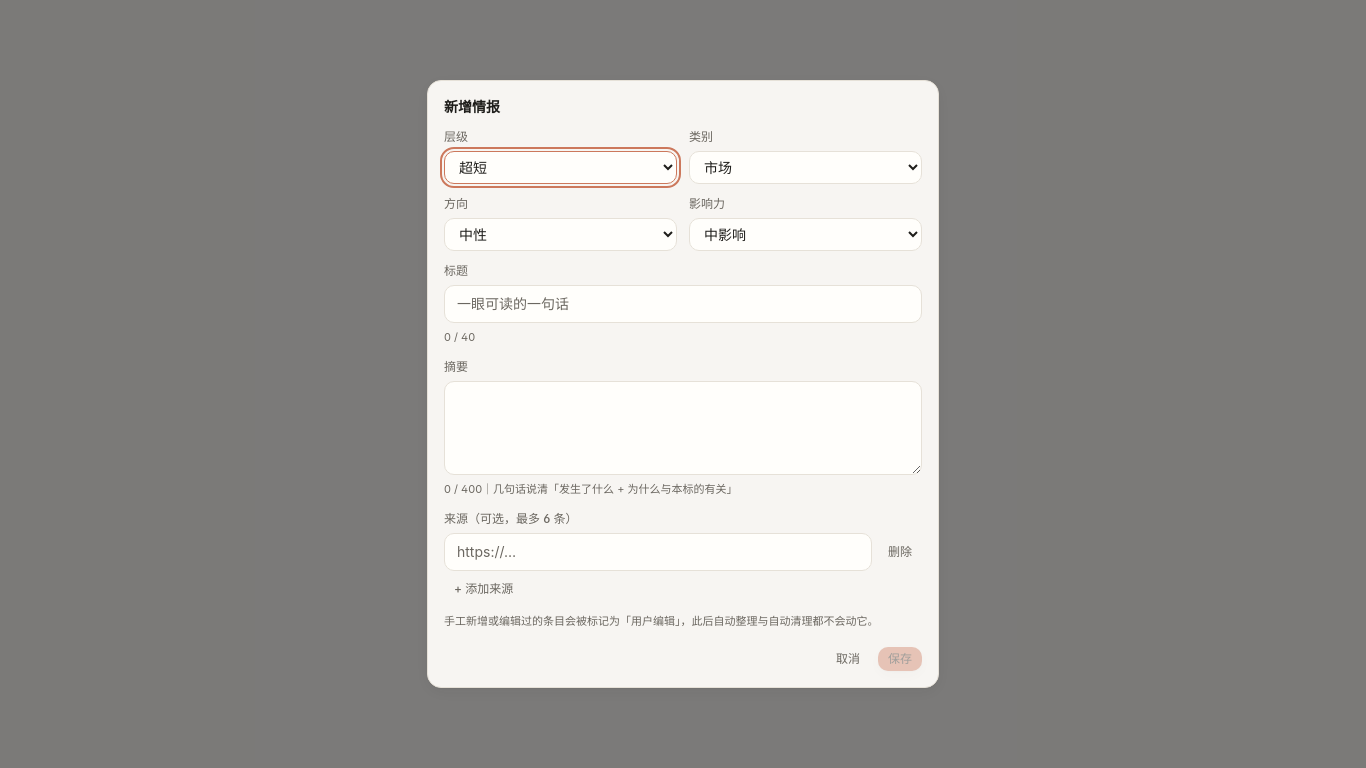
Test: IntelEditor › 非 http(s) 来源被挡下并给出人话
This screenshot has width=1366, height=768.
Type "标题" into the field labelled "标题" at [683, 304], box [444,285,922,323]
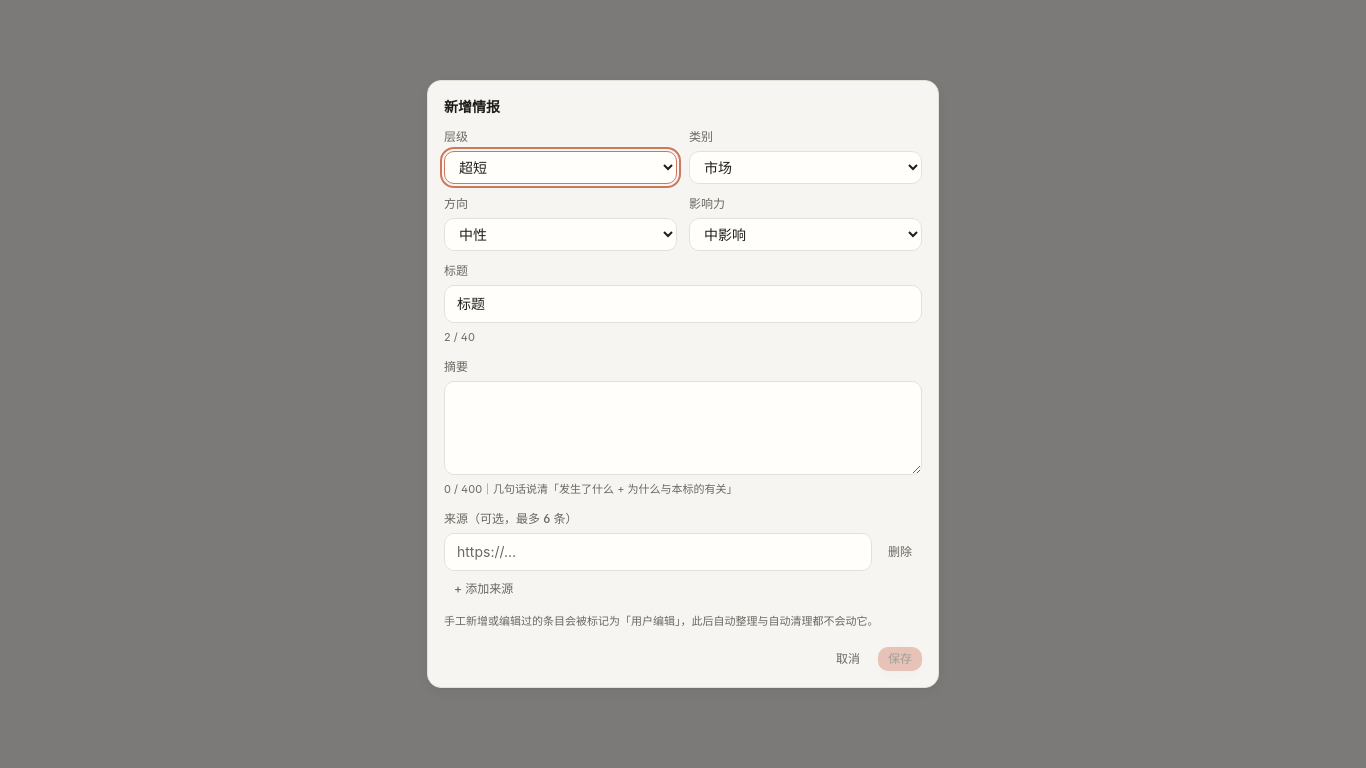
Type "摘要" into the text box labelled "摘要" at [683, 428], box [444,381,922,475]
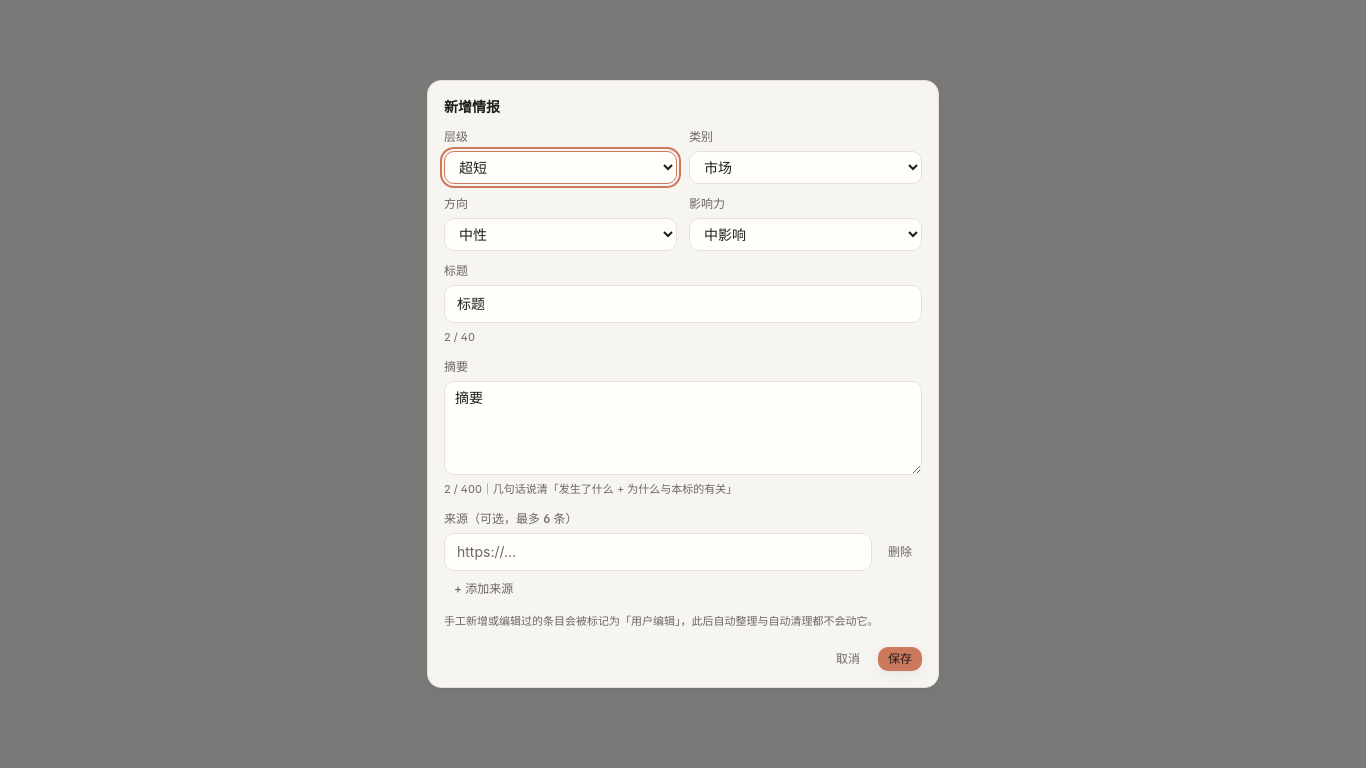
Type "javascript:alert(1)" into the field named "来源链接 1" at [658, 552], box [444,533,872,571]
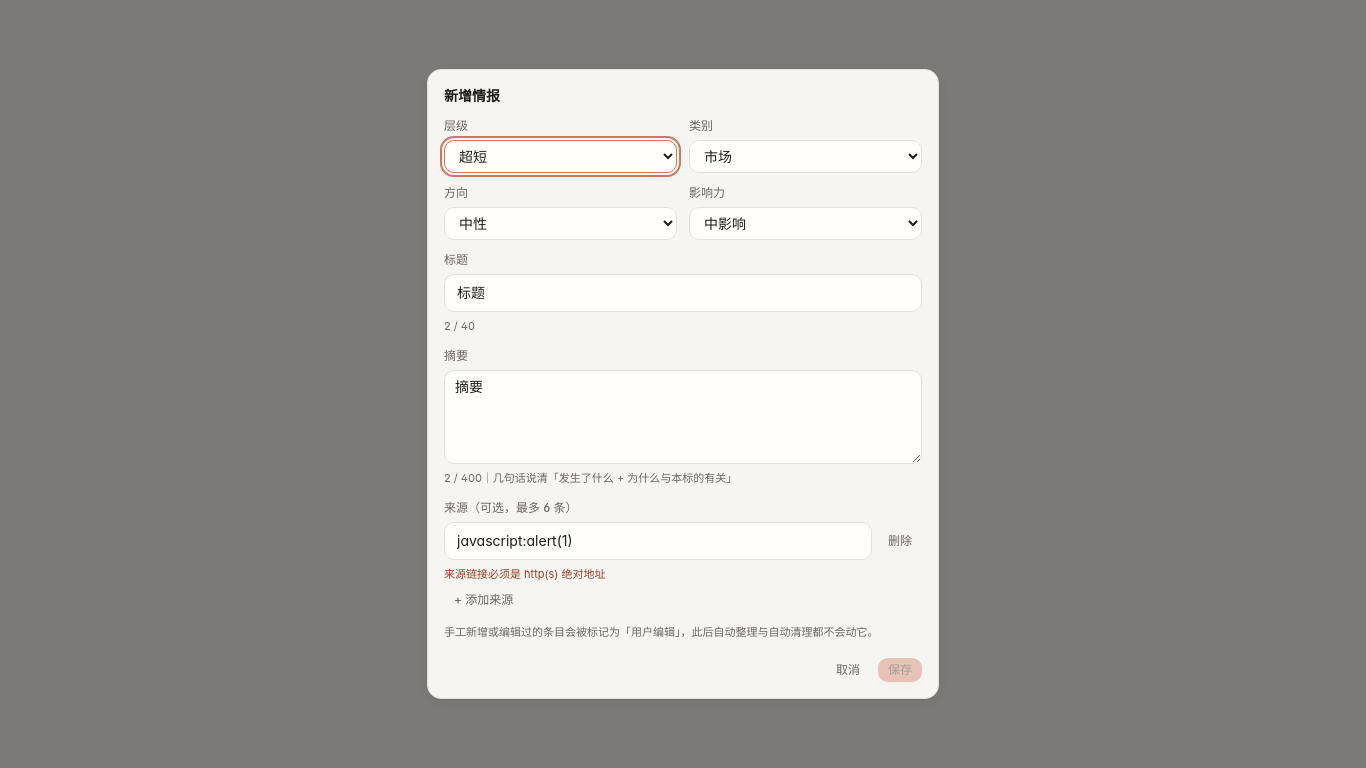
Result: the text "来源链接必须是 http(s) 绝对地址" is shown at [444,567,606,581]
Result: the button "保存" is disabled at [878,658,922,682]
